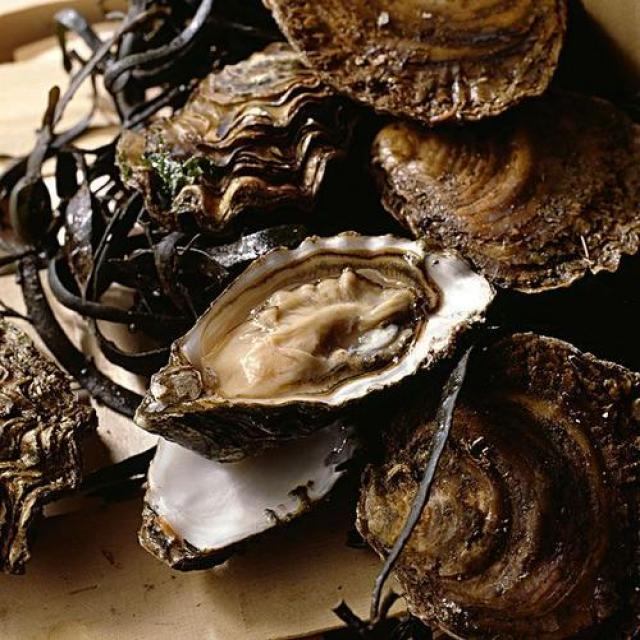Oyster- Indeterminate: (355, 328, 640, 640), (369, 85, 640, 291), (263, 0, 575, 125), (0, 307, 113, 583)
Oyster-Closed: (121, 41, 366, 229)
Oyster-Open: (134, 229, 498, 432), (135, 424, 354, 579)
